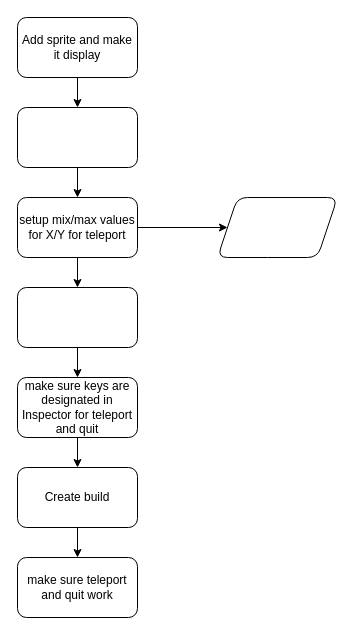
The diagram is 355 pixels wide and 635 high, and some of its shapes have lost their labels. Each missing label, with the centre of its shape:
"add ability to quit" belongs at [77,317].
"create script to have sprite teleport around to random positions" belongs at [77,137].
"make public so they appear in Inspector for designers" belongs at [277,227].
